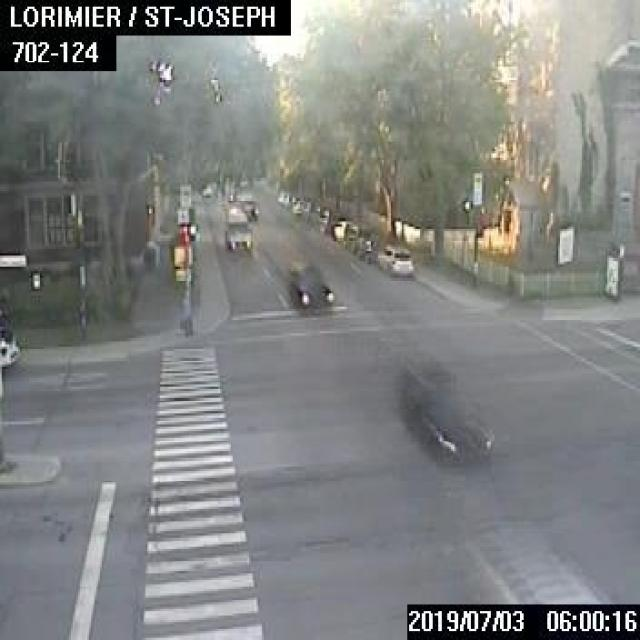vehicle: (400, 367, 493, 463), (285, 259, 333, 309), (376, 243, 412, 276), (222, 207, 250, 249), (0, 323, 20, 368), (342, 224, 369, 252), (316, 208, 336, 231), (240, 193, 257, 216), (200, 178, 218, 195), (332, 220, 348, 238), (292, 198, 302, 212), (283, 193, 291, 206), (276, 191, 284, 202)
